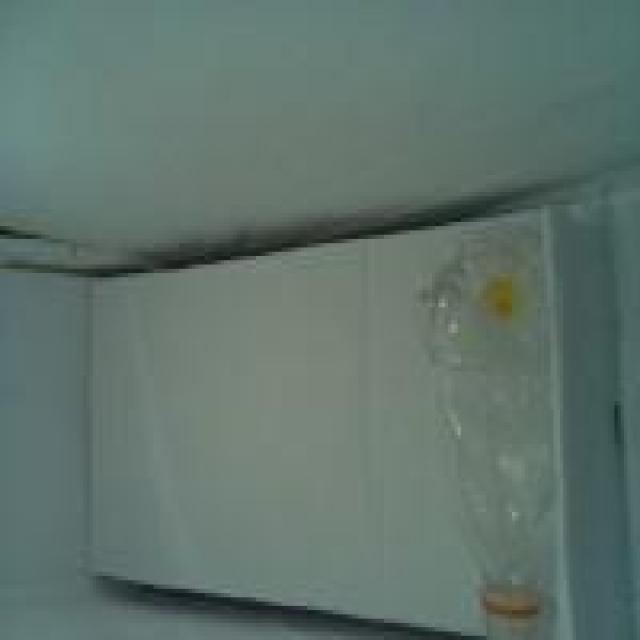bottle: (402, 211, 588, 636)
